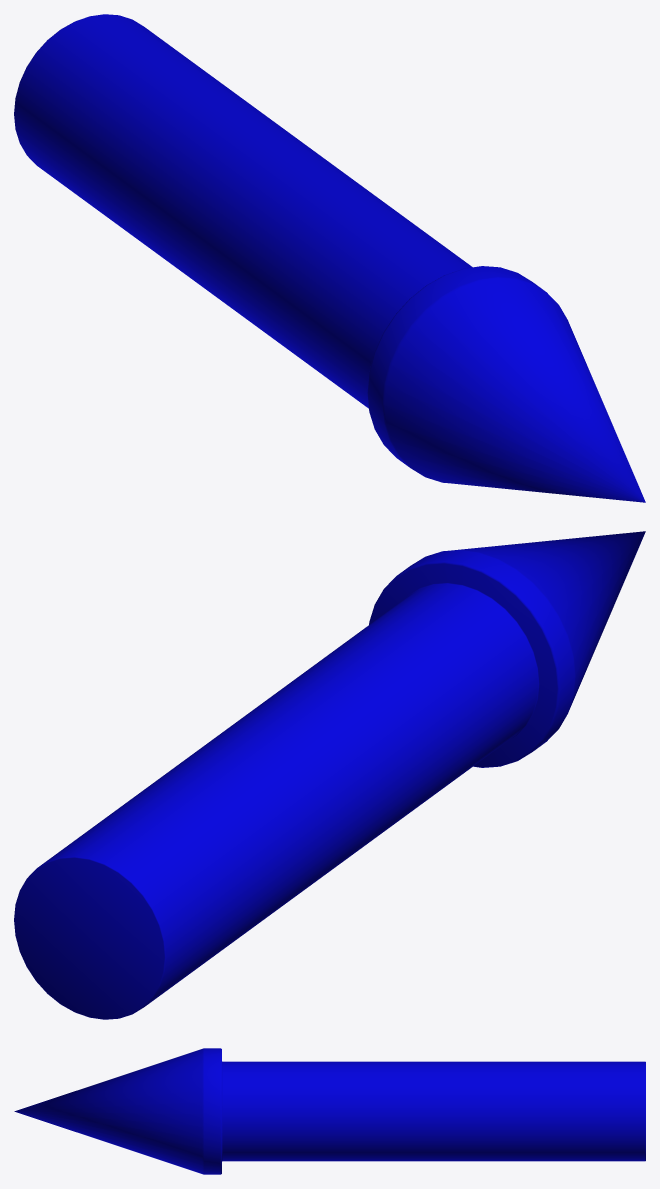
Rendered from ZArrow.glb.
3 renders of one model, top to bottom at view 1: azimuth 30°, elevation 25°; view 2: azimuth 150°, elevation 25°; view 3: azimuth 270°, elevation 25°, orthographic. The views are drawn at different scales.
Visible parts, largest first — view 1: Arrow; view 2: Arrow; view 3: Arrow.
Boxes of the visible parts, bbox=[...] form: Arrow: bbox=[14, 14, 645, 502]; Arrow: bbox=[14, 531, 645, 1019]; Arrow: bbox=[14, 1048, 645, 1174].
Bounding box in the file's own units: 0.2 × 0.2 × 1.
